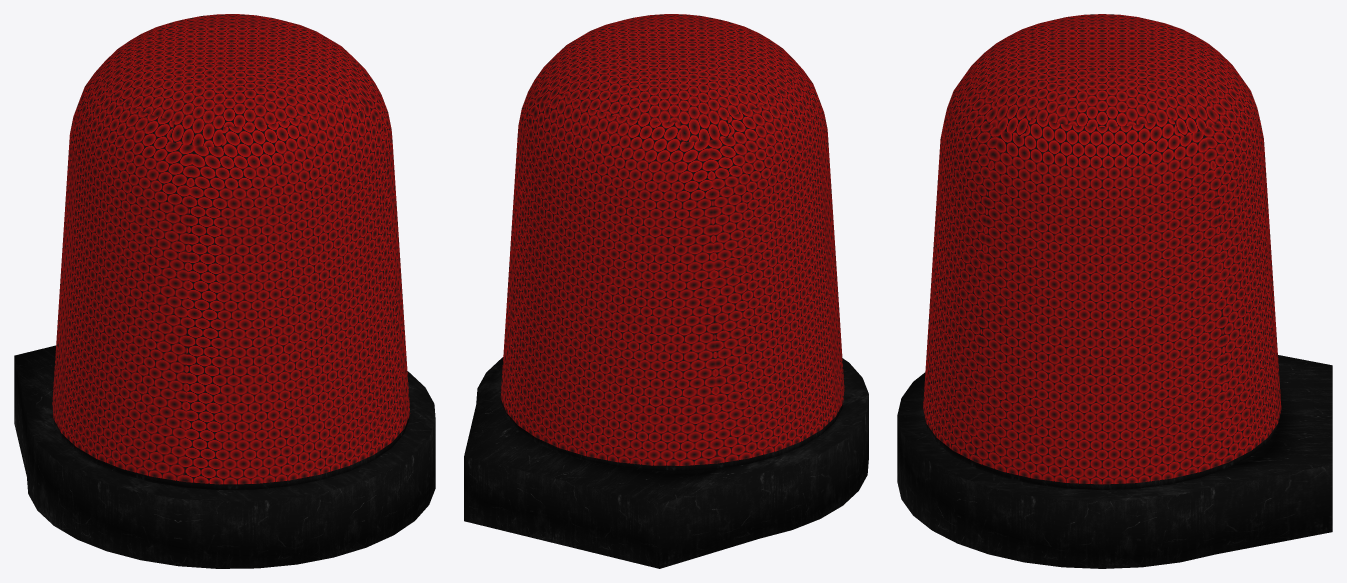
Rendered from FireAlarm.glb.
3 renders of one model, left to right at view 1: azimuth 30°, elevation 25°; view 2: azimuth 150°, elevation 25°; view 3: azimuth 270°, elevation 25°, orthographic. The views are drawn at different scales.
Parts seen in each view (by area): view 1: Cylinder.001, Cylinder; view 2: Cylinder.001, Cylinder; view 3: Cylinder.001, Cylinder.
Boxes of the visible parts, x1,y1,x2,y2 form: Cylinder.001: (52, 14, 410, 484); Cylinder: (14, 345, 435, 568); Cylinder.001: (500, 14, 844, 465); Cylinder: (464, 357, 868, 568); Cylinder.001: (923, 14, 1281, 484); Cylinder: (897, 355, 1332, 568).
Bounding box in the file's own units: 2.28 × 2.68 × 2.42.
Materials: 2 (2 with a texture image).
